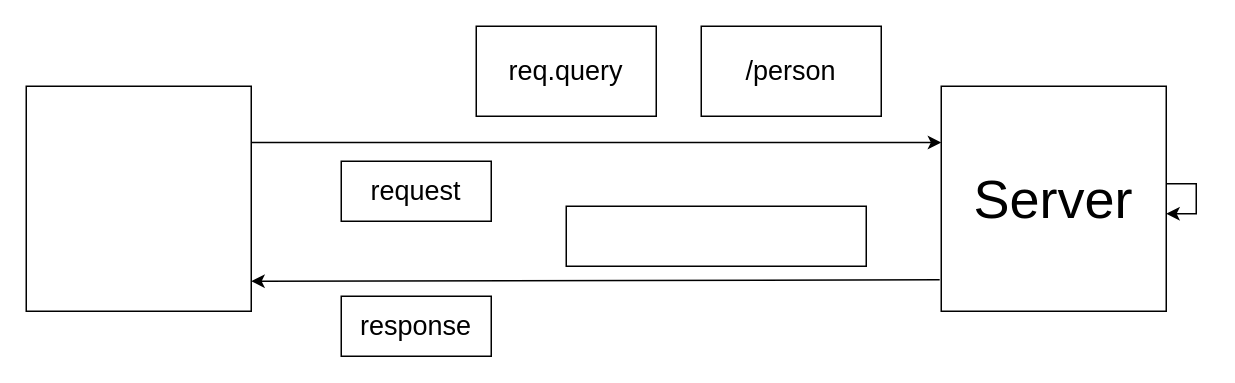
The diagram is 1235 pixels wide and 383 high, and some of its shapes have lost their labels. The shapes that lost their labels are listed below. From the top down, each one's centre as x and y in pixels, then its label:
At [138,198]: "Client".
At [715,235]: "{ name: 'name' }".
